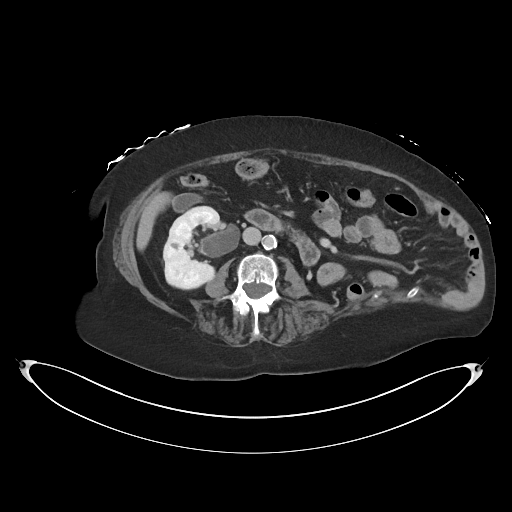Lesion: (169, 237, 182, 254)
